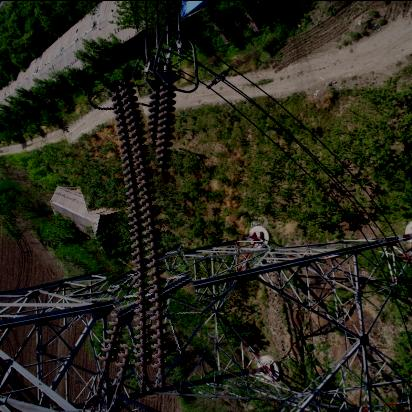insulator: (77, 77, 200, 390)
